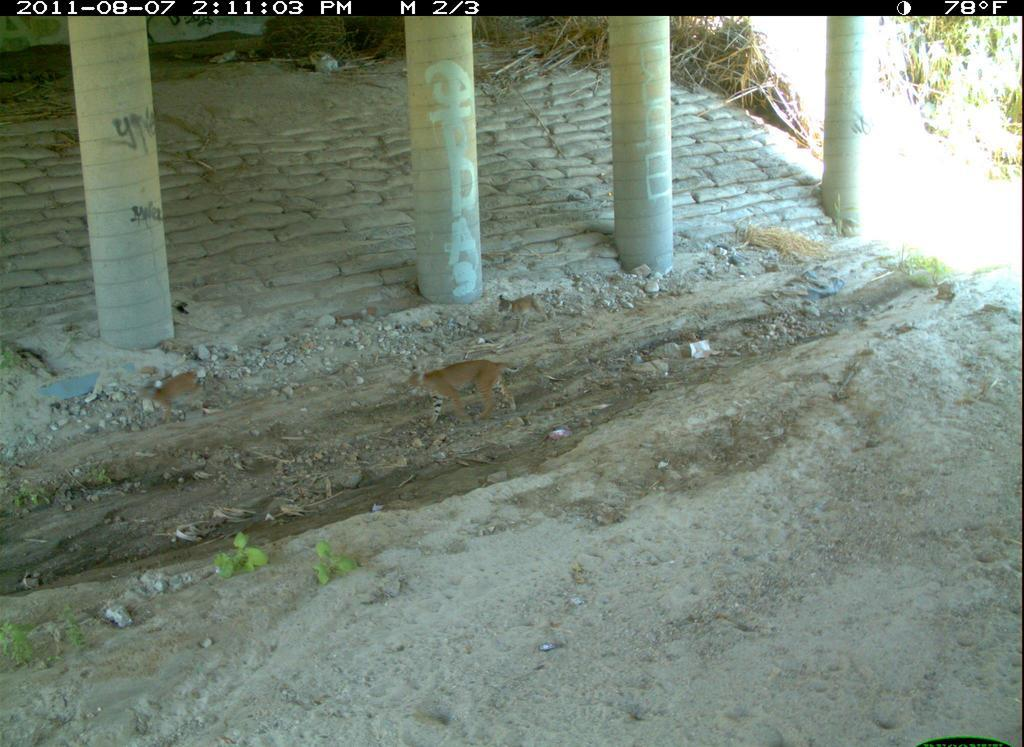bobcat: (800, 708, 1024, 747), (979, 574, 1024, 675), (266, 733, 429, 747)
